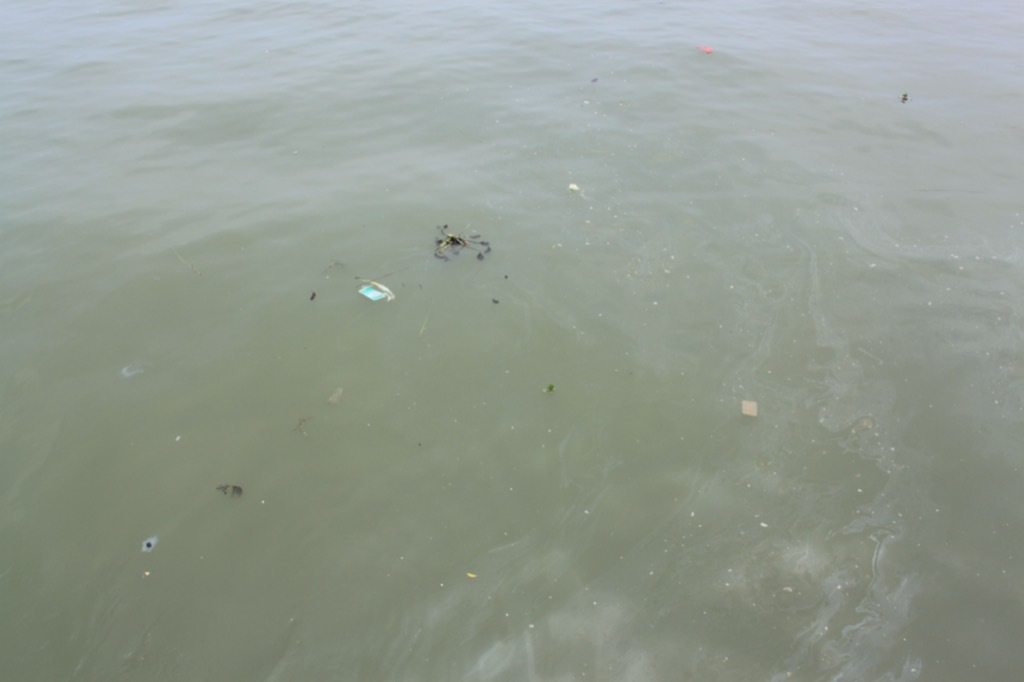organic: (425, 212, 496, 264), (309, 252, 361, 280), (285, 408, 319, 444), (212, 477, 253, 506), (536, 378, 562, 401), (893, 86, 914, 106), (584, 73, 607, 90), (486, 290, 503, 311), (304, 288, 319, 304), (496, 272, 516, 283)
plastic: (731, 391, 770, 433), (114, 353, 150, 389), (353, 282, 388, 309), (134, 533, 162, 558)
